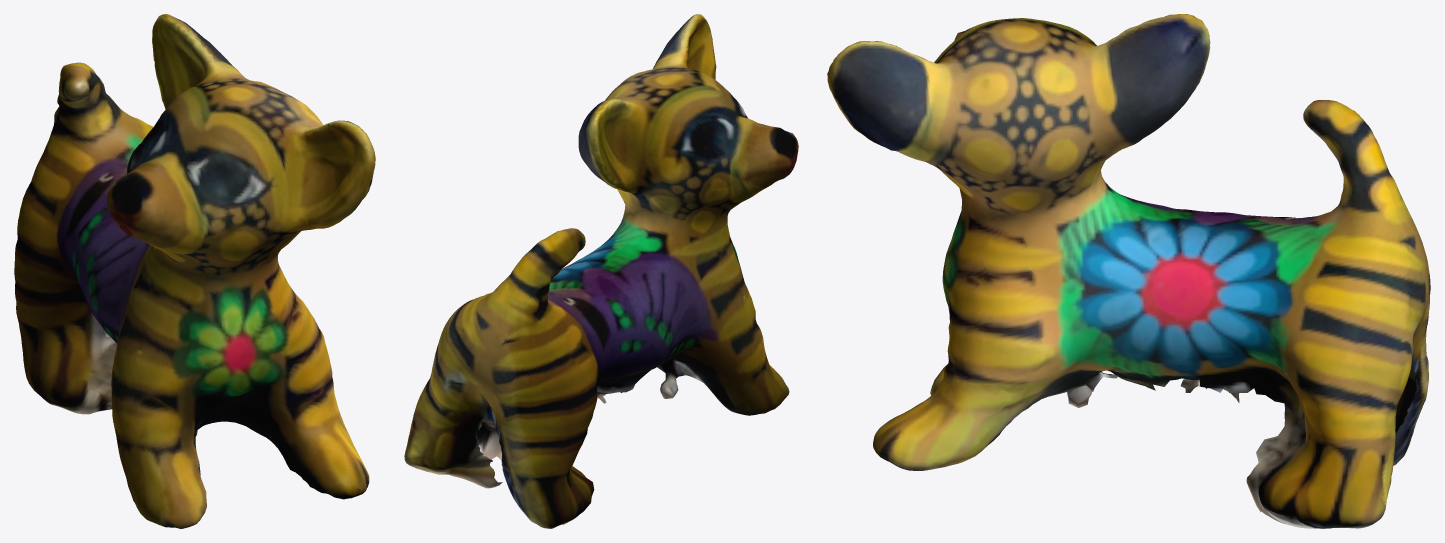
Rendered from perrito.glb.
3 views of the same model, side by side, from view 1: azimuth 30°, elevation 25°; view 2: azimuth 150°, elevation 25°; view 3: azimuth 270°, elevation 25° (orthographic). The views are drawn at different scales.
Visible parts, largest first — view 1: perrito; view 2: perrito; view 3: perrito.
Boxes of the visible parts, x1,y1,x2,y2 form: perrito: (14, 14, 375, 528); perrito: (404, 14, 798, 528); perrito: (827, 14, 1430, 528).
Size of the model in its own units: 1.26 by 1.8 by 2.08.
Materials: 2 (2 with a texture image).
